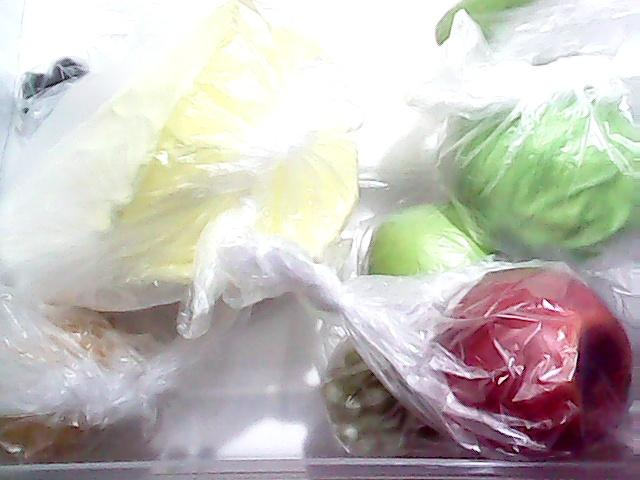apple: (402, 252, 640, 470), (362, 202, 496, 290)
cabbage: (426, 34, 640, 258)
grape: (316, 328, 456, 460), (18, 48, 102, 118)
napa cabbage: (5, 17, 371, 302)
potato: (0, 296, 152, 464)
